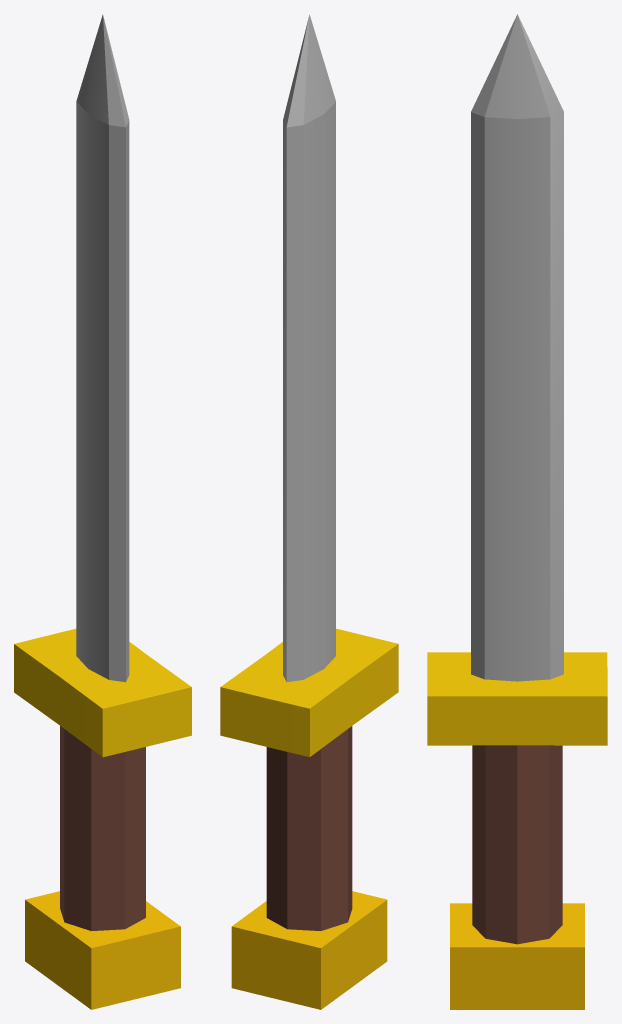
The model's file is Sword.fbx.
3 views of the same model, side by side, from view 1: azimuth 30°, elevation 25°; view 2: azimuth 150°, elevation 25°; view 3: azimuth 270°, elevation 25° (orthographic).
Parts seen in each view (by area): view 1: Sword; view 2: Sword; view 3: Sword.
Part boxes in pixels (x1,y1,x2,y2): Sword: (14,14,191,1009); Sword: (220,14,398,1009); Sword: (427,14,607,1009).
Bounding box in the file's own units: 5 × 51.35 × 8.61.
